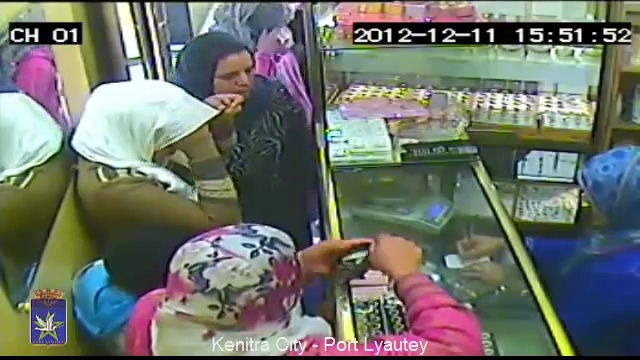face: (214, 53, 259, 98)
